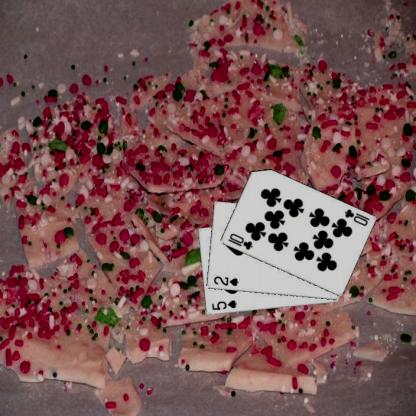10C: (341, 206, 370, 228), (225, 231, 254, 251)
2S: (211, 274, 239, 287)
5S: (209, 298, 238, 311)
